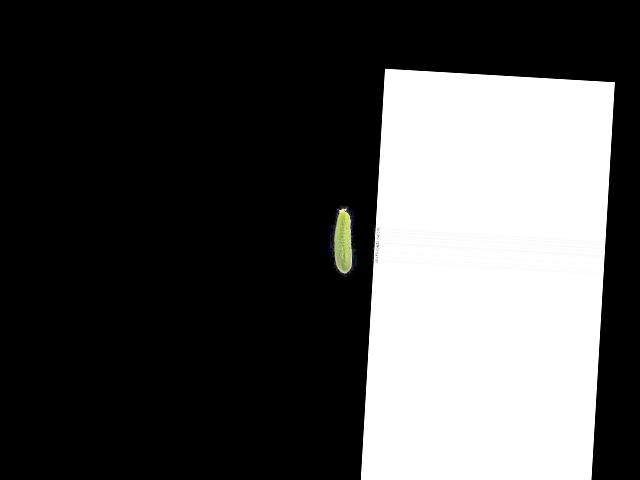cucumber: (332, 208, 355, 273)
